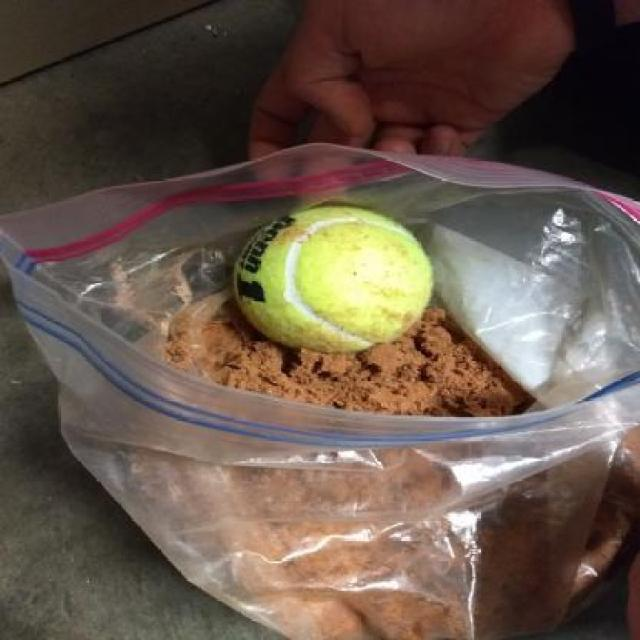Tennis_Ball: (229, 203, 428, 348)
